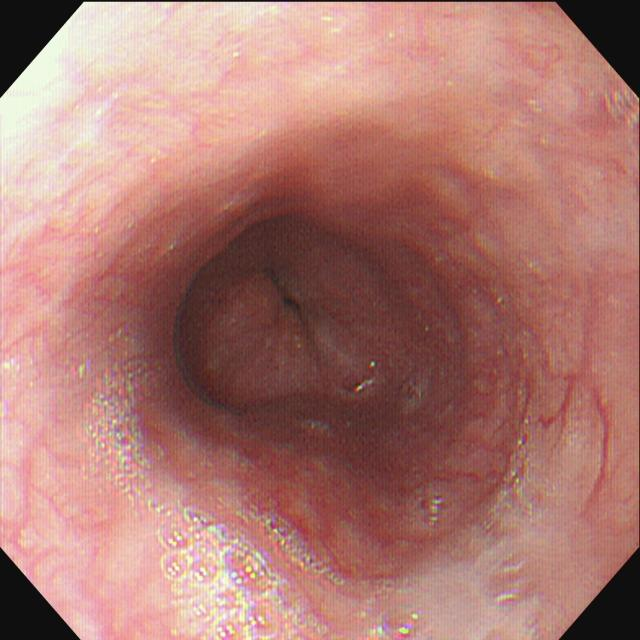I: (184, 219, 429, 436)
T: (158, 505, 343, 640), (81, 354, 159, 503), (367, 605, 431, 640)
